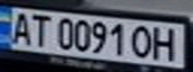0: (51, 15, 75, 51), (72, 17, 93, 53)
1: (106, 20, 130, 56)
9: (90, 19, 109, 55)
A: (6, 9, 36, 45)
H: (148, 24, 184, 62)
O: (127, 24, 157, 60)
T: (27, 11, 54, 47)
